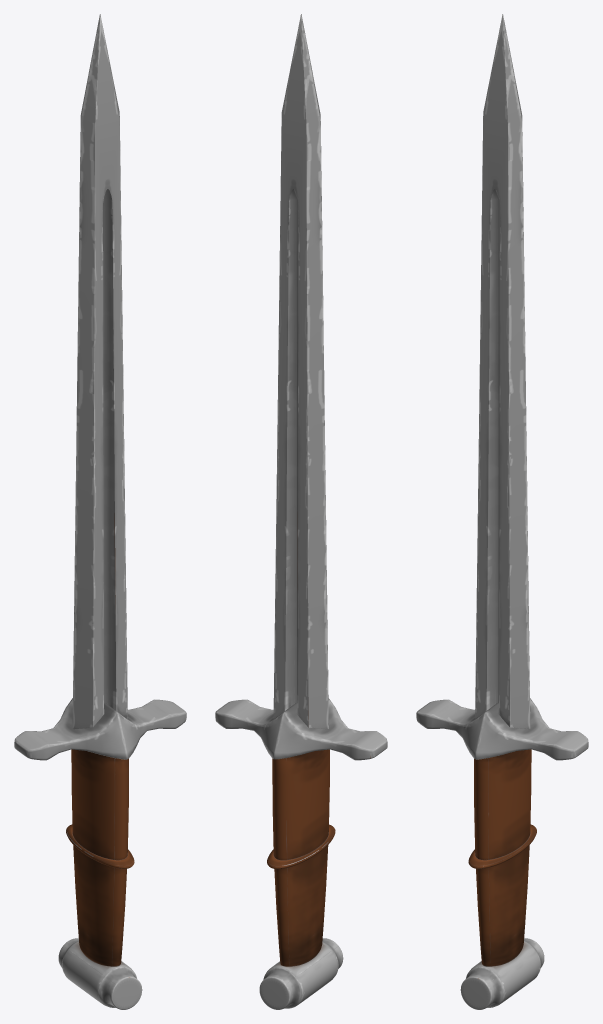
The picture shows the model from 3 angles, left to right: view 1: azimuth 30°, elevation 25°; view 2: azimuth 150°, elevation 25°; view 3: azimuth 330°, elevation 25°; orthographic projection.
Parts seen in each view (by area): view 1: Cube.002; view 2: Cube.002; view 3: Cube.002.
Boxes of the visible parts, x1,y1,x2,y2 form: Cube.002: [14, 14, 186, 1009]; Cube.002: [215, 14, 387, 1009]; Cube.002: [416, 14, 588, 1009].
Bounding box in the file's own units: 0.1838 × 1.08 × 0.1151.
Materials: 1 (1 with a texture image).
